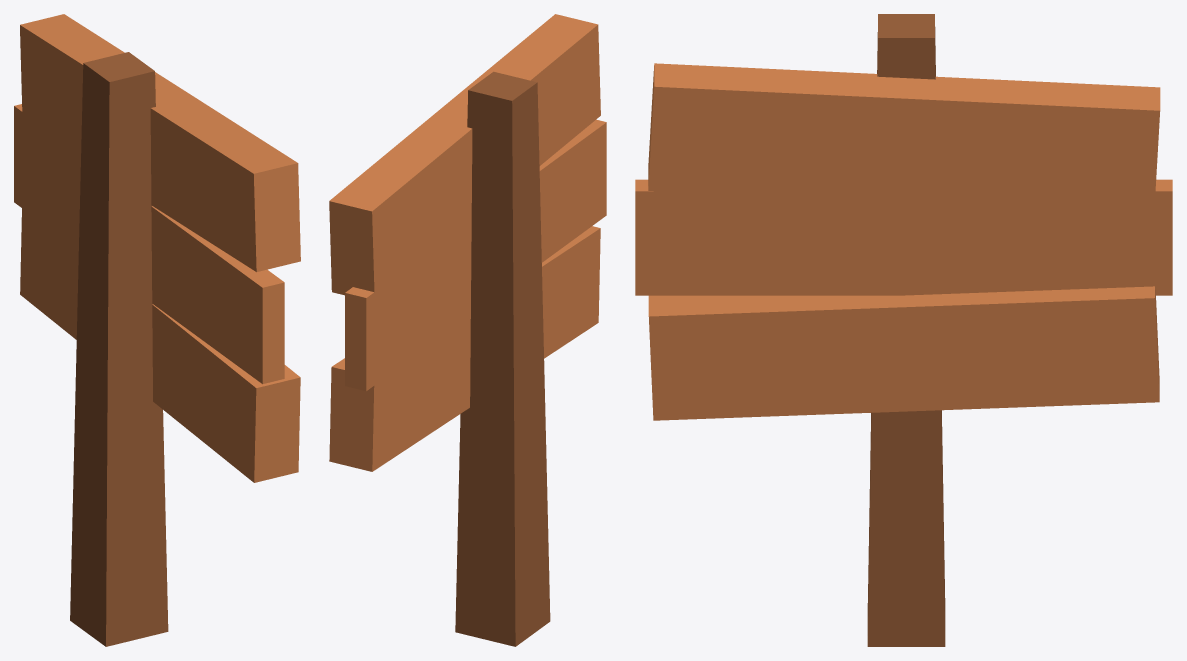
File: d_kenney_pancarte.glb
3 views of the same model, side by side, from view 1: azimuth 30°, elevation 25°; view 2: azimuth 150°, elevation 25°; view 3: azimuth 270°, elevation 25° (orthographic). The views are drawn at different scales.
Parts seen in each view (by area): view 1: d_kenney_pancarte; view 2: d_kenney_pancarte; view 3: d_kenney_pancarte.
Boxes of the visible parts, bbox=[...] form: d_kenney_pancarte: bbox=[14, 14, 300, 646]; d_kenney_pancarte: bbox=[329, 14, 606, 646]; d_kenney_pancarte: bbox=[635, 14, 1172, 646].
Bounding box in the file's own units: 0.105 × 0.6 × 0.4835.
Materials: 1 (1 with a texture image).
